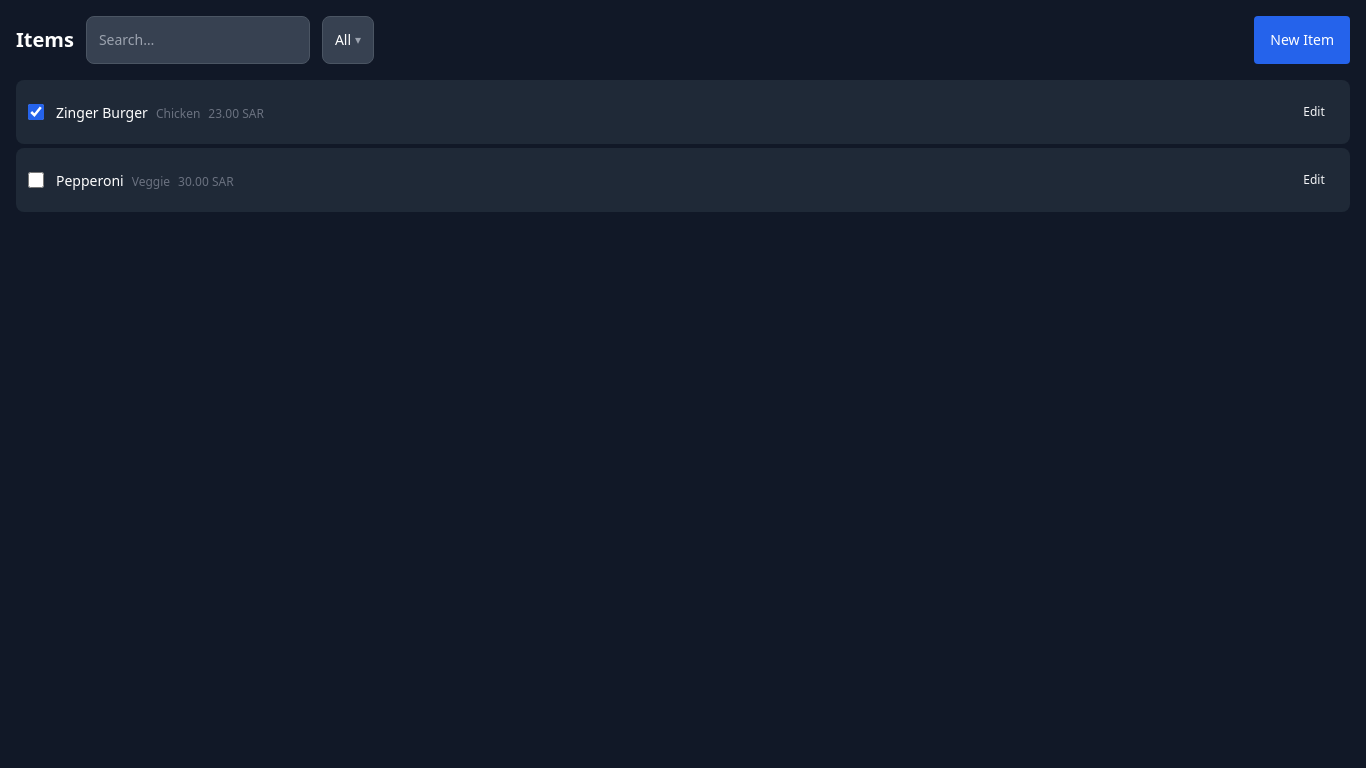
Scenario: ItemsPage › resets the subcategory to the first of the newly selected category
expect the heading "Items" is shown: met, box [16, 26, 74, 54]
Click the button "New Item".
click(1302, 40)  # box [1254, 16, 1350, 64]
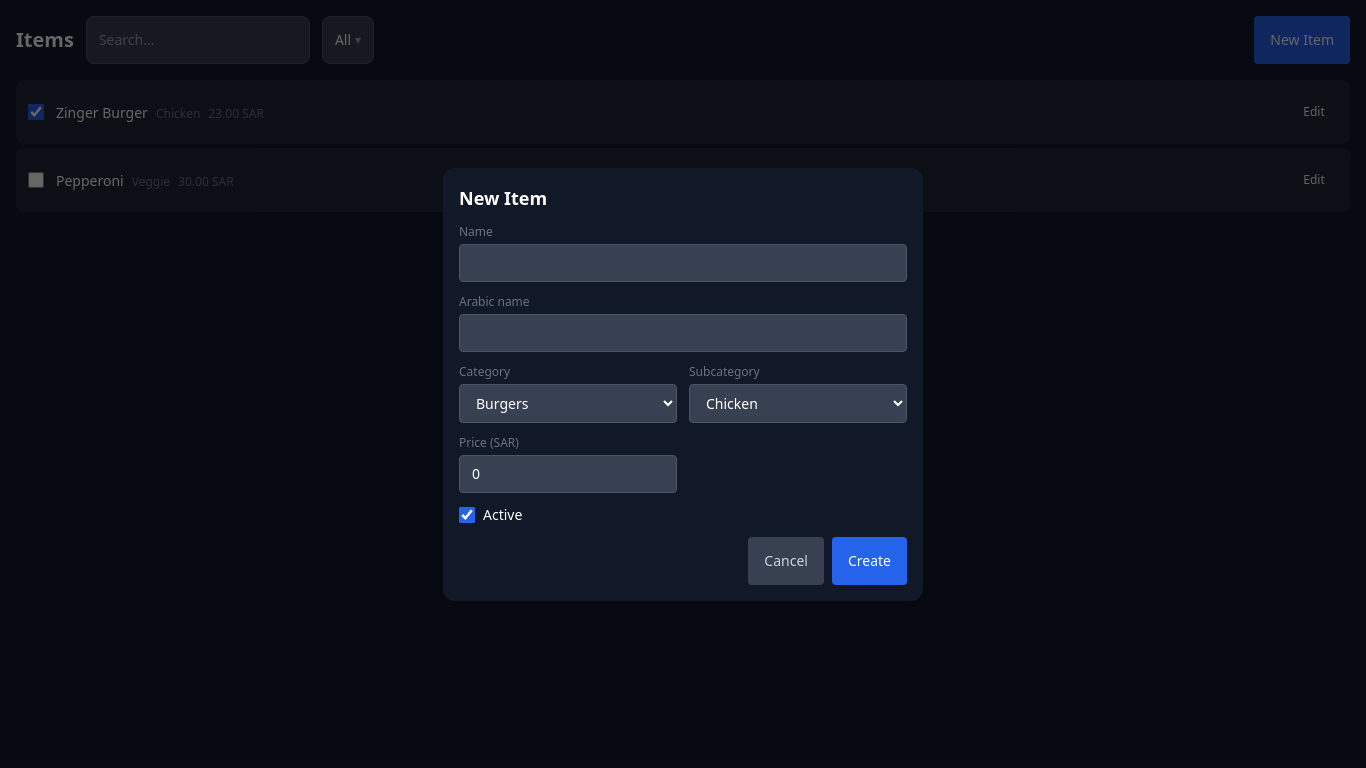
expect the dropdown labelled "Subcategory" shows "Chicken": met, box [689, 384, 907, 422]
Select "Pizza" in the dropdown labelled "Category" at (568,403), box [459, 384, 677, 422]
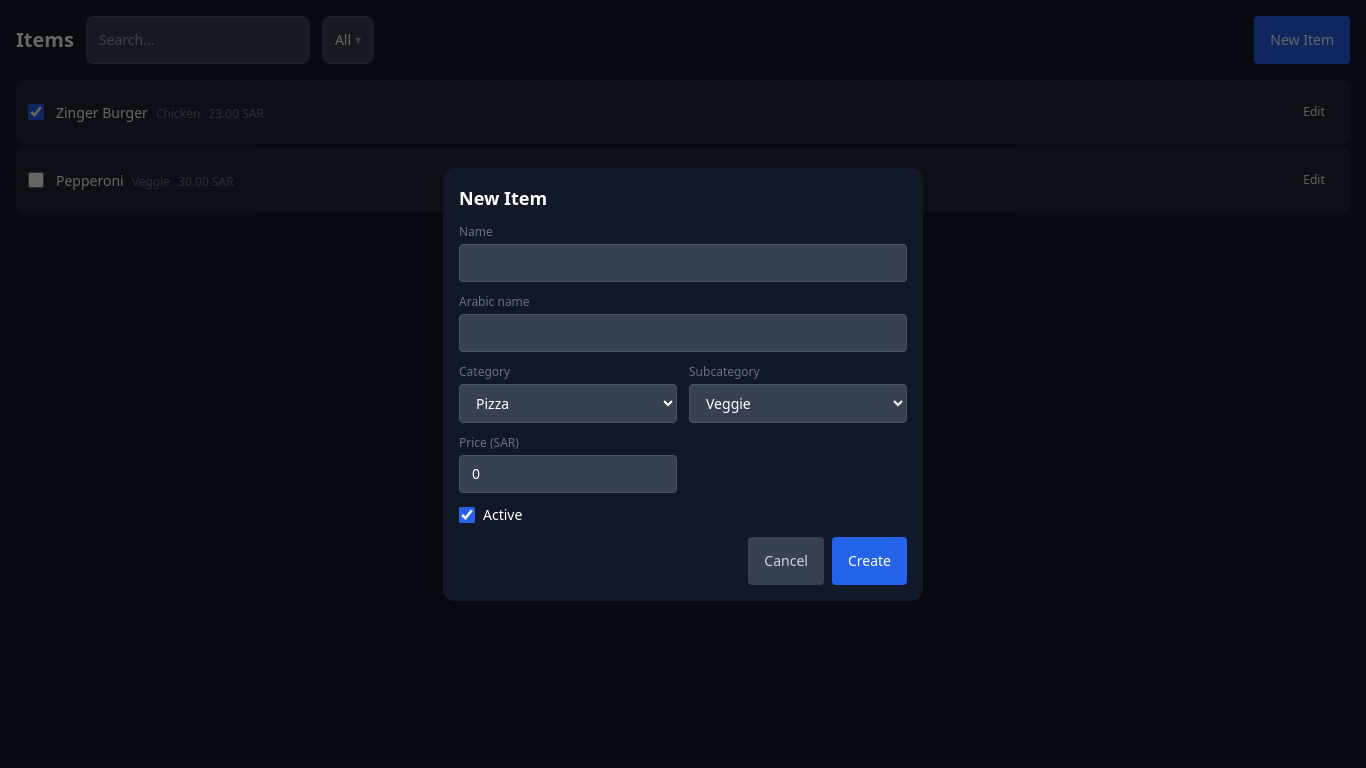
expect the dropdown labelled "Subcategory" shows "Veggie": met, box [689, 384, 907, 422]
